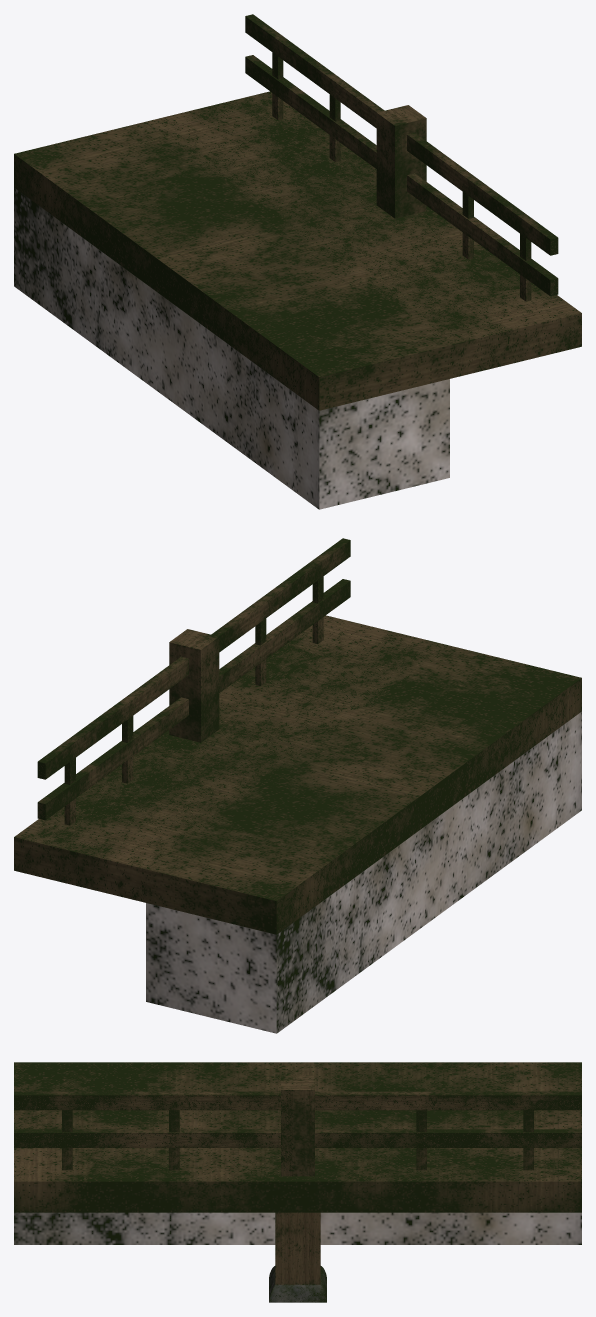
File: shrine_floor_outside_veranda_02.fbx
3 renders of one model, top to bottom at view 1: azimuth 30°, elevation 25°; view 2: azimuth 150°, elevation 25°; view 3: azimuth 270°, elevation 25°, orthographic. The views are drawn at different scales.
Parts seen in each view (by area): view 1: shrine_floor_outside_veranda_02; view 2: shrine_floor_outside_veranda_02; view 3: shrine_floor_outside_veranda_02.
Part boxes in pixels (x1,y1,x2,y2): shrine_floor_outside_veranda_02: [14, 14, 581, 509]; shrine_floor_outside_veranda_02: [14, 538, 581, 1033]; shrine_floor_outside_veranda_02: [14, 1062, 581, 1302].
Bounding box in the file's own units: 164 × 134 × 330.
Materials: 1 (1 with a texture image).
